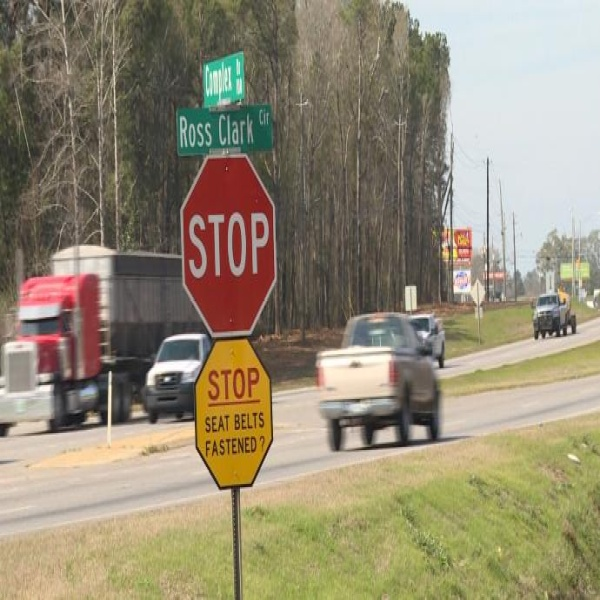stop: (181, 153, 281, 335)
